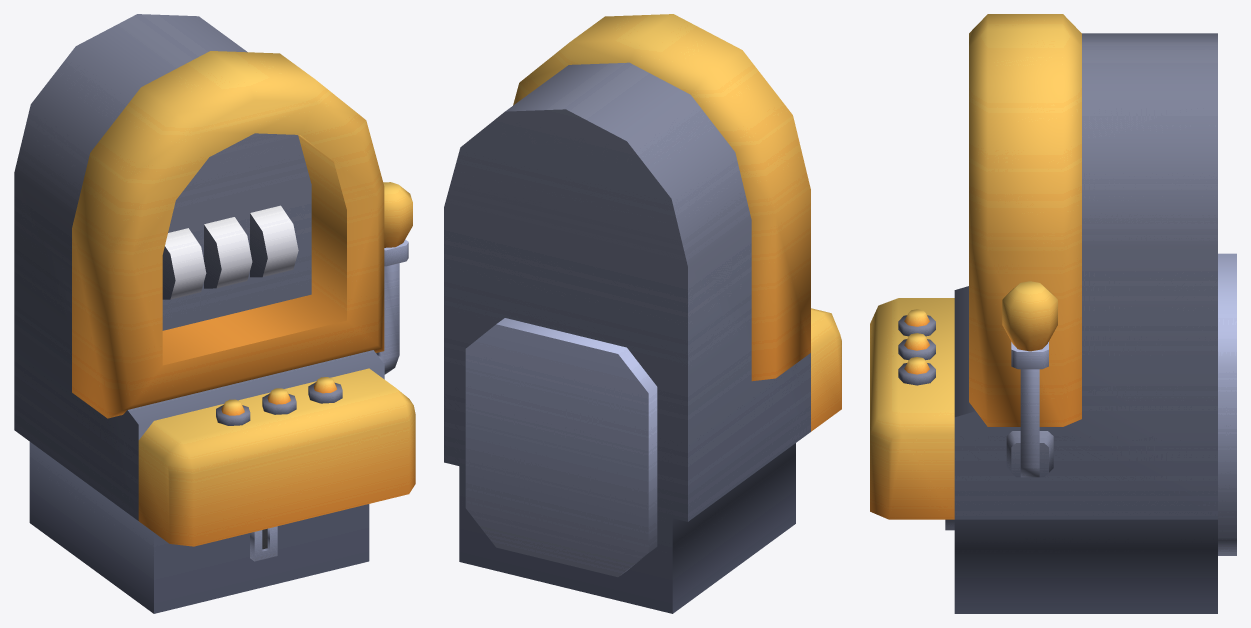
File: gambling-machine.glb
3 views of the same model, side by side, from view 1: azimuth 30°, elevation 25°; view 2: azimuth 150°, elevation 25°; view 3: azimuth 270°, elevation 25° (orthographic). The views are drawn at different scales.
Visible parts, largest first — view 1: gambling-machine; view 2: gambling-machine; view 3: gambling-machine.
Boxes of the visible parts, x1,y1,x2,y2 form: gambling-machine: [14, 14, 415, 613]; gambling-machine: [444, 14, 841, 613]; gambling-machine: [870, 14, 1236, 613].
Size of the model in its own units: 0.5245 by 0.7759 by 0.4875.
Materials: 1 (1 with a texture image).
